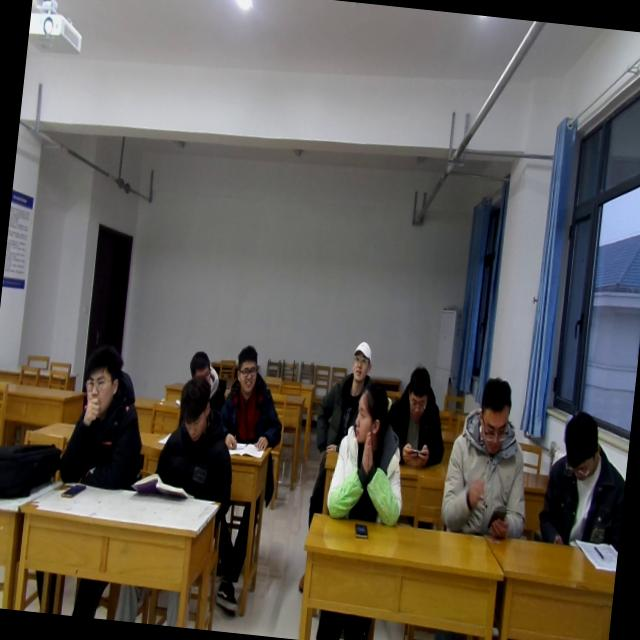down: (472, 369, 515, 460), (556, 408, 606, 482), (172, 372, 214, 442), (398, 359, 436, 428), (185, 338, 214, 381)
lookup: (76, 336, 124, 420), (229, 336, 262, 398), (346, 336, 374, 384)
sit: (438, 372, 542, 537), (322, 377, 417, 531), (57, 345, 150, 495), (535, 408, 631, 552), (150, 373, 242, 502), (215, 343, 292, 458), (314, 334, 377, 446), (391, 362, 453, 462), (178, 344, 226, 408)
